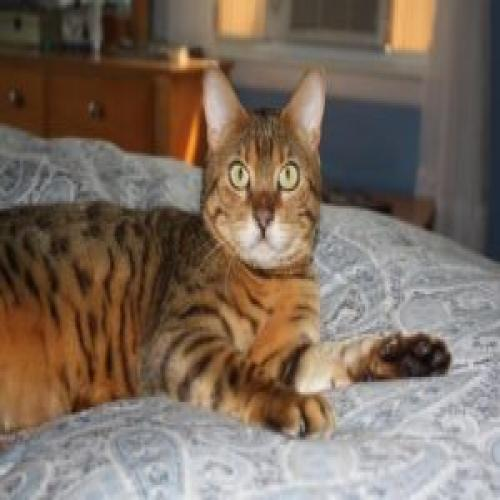bengal: (193, 56, 346, 277)
